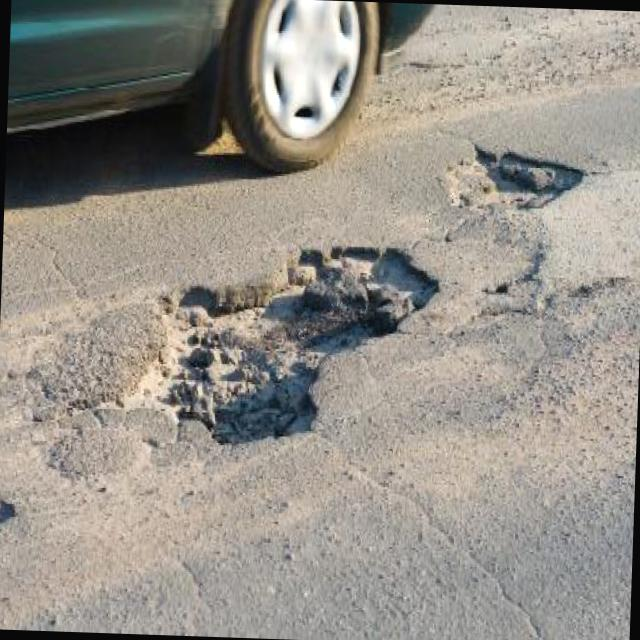Lubang: (127, 244, 438, 441), (445, 146, 583, 207)
